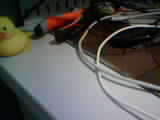duck: (1, 12, 29, 47)
